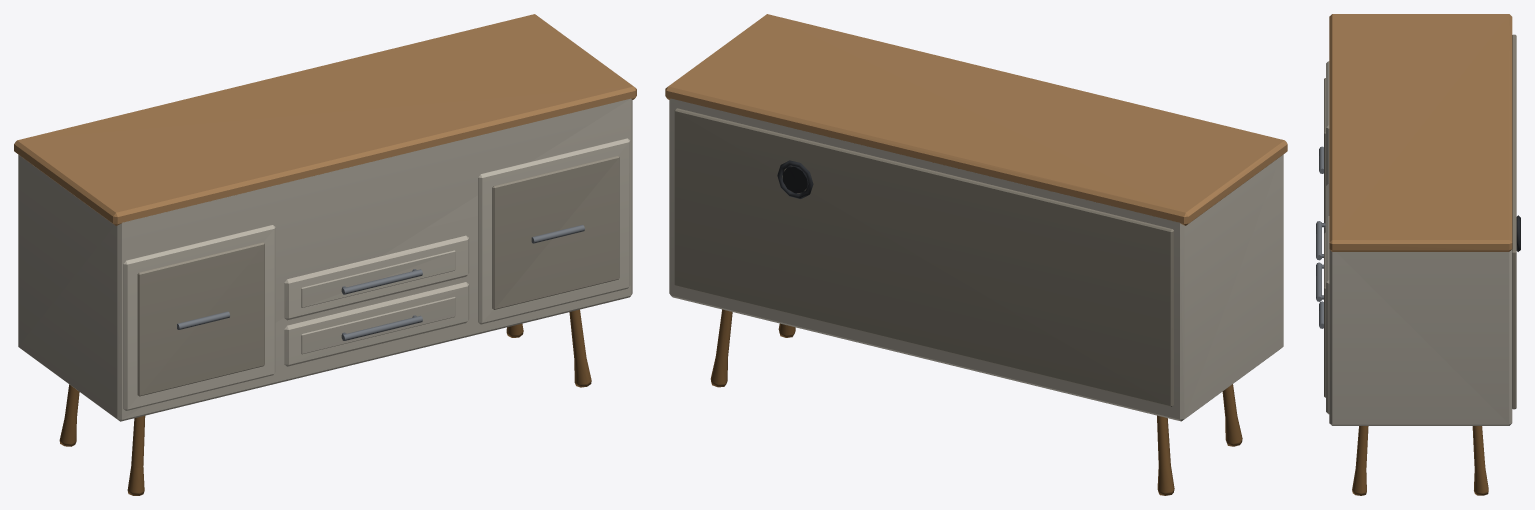
The model's file is credenza.glb.
3 renders of one model, left to right at view 1: azimuth 30°, elevation 25°; view 2: azimuth 150°, elevation 25°; view 3: azimuth 270°, elevation 25°, orthographic. The views are drawn at different scales.
Visible parts, largest first — view 1: credenza; view 2: credenza; view 3: credenza.
Part boxes in pixels (x1,y1,x2,y2): credenza: [14, 14, 636, 495]; credenza: [665, 14, 1287, 495]; credenza: [1316, 14, 1520, 495].
Bounding box in the file's own units: 1.24 × 0.6817 × 0.4695.
